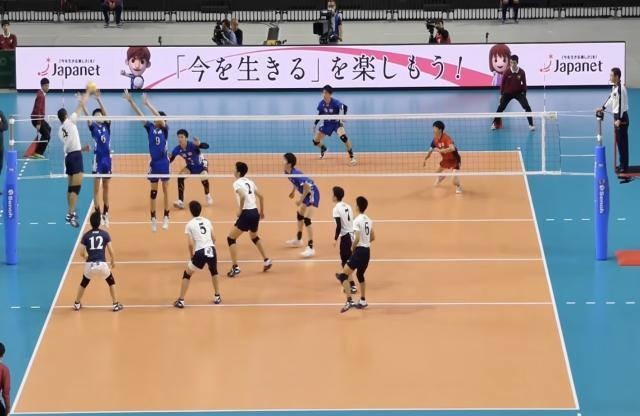spike: (56, 80, 104, 231)
